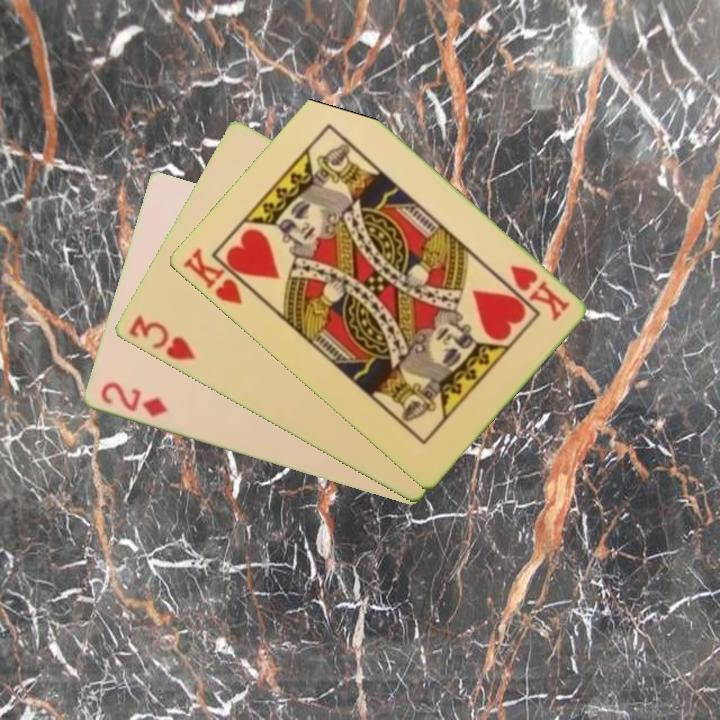2d: (97, 378, 170, 420)
3h: (124, 311, 198, 364)
Kh: (178, 244, 259, 308), (505, 261, 572, 325)
